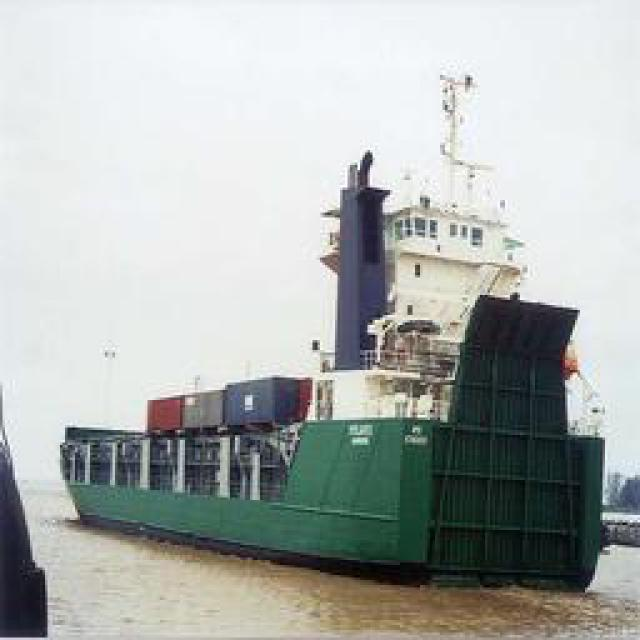Ship: (52, 67, 640, 601)
